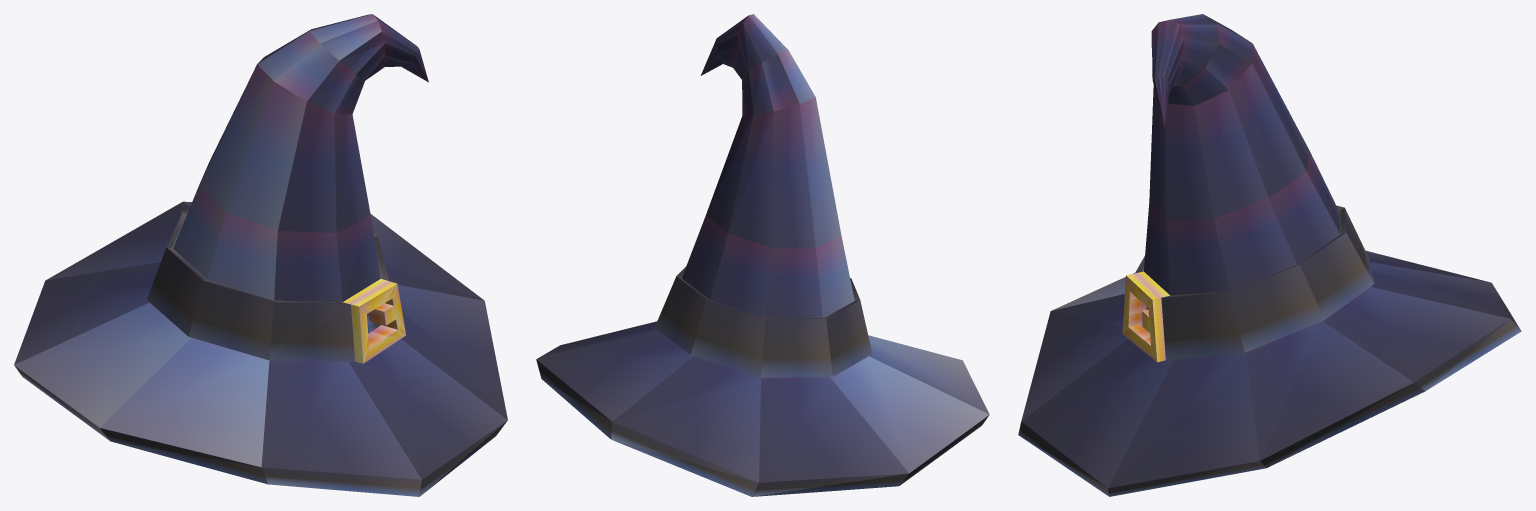
The model's file is wizardHat.fbx.
3 views of the same model, side by side, from view 1: azimuth 30°, elevation 25°; view 2: azimuth 150°, elevation 25°; view 3: azimuth 270°, elevation 25° (orthographic). The views are drawn at different scales.
Visible parts, largest first — view 1: wizardHat; view 2: wizardHat; view 3: wizardHat.
Part boxes in pixels (<box>): wizardHat: <box>14,14,507,496</box>; wizardHat: <box>536,14,989,496</box>; wizardHat: <box>1018,14,1521,496</box>.
Bounding box in the file's own units: 134 × 129 × 137.
